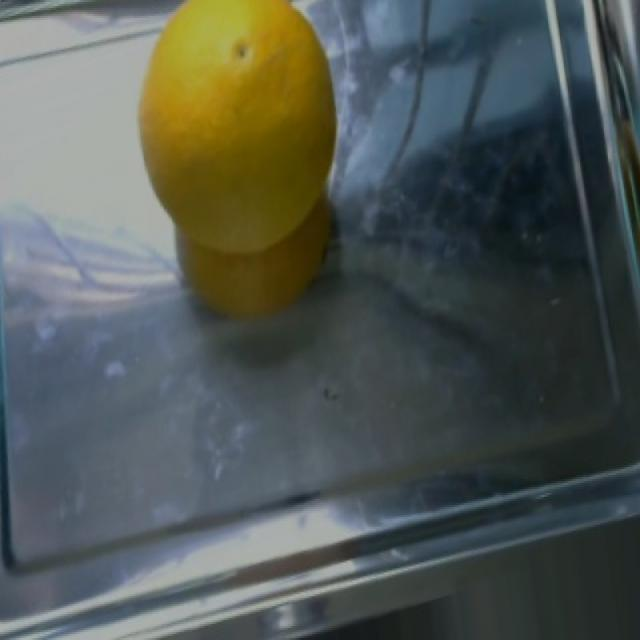Fruit: (129, 0, 347, 328)
